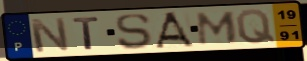A: (153, 10, 196, 49)
M: (196, 10, 239, 46)
N: (27, 17, 72, 54)
Q: (234, 8, 278, 46)
S: (114, 12, 153, 51)
T: (71, 16, 102, 51)
